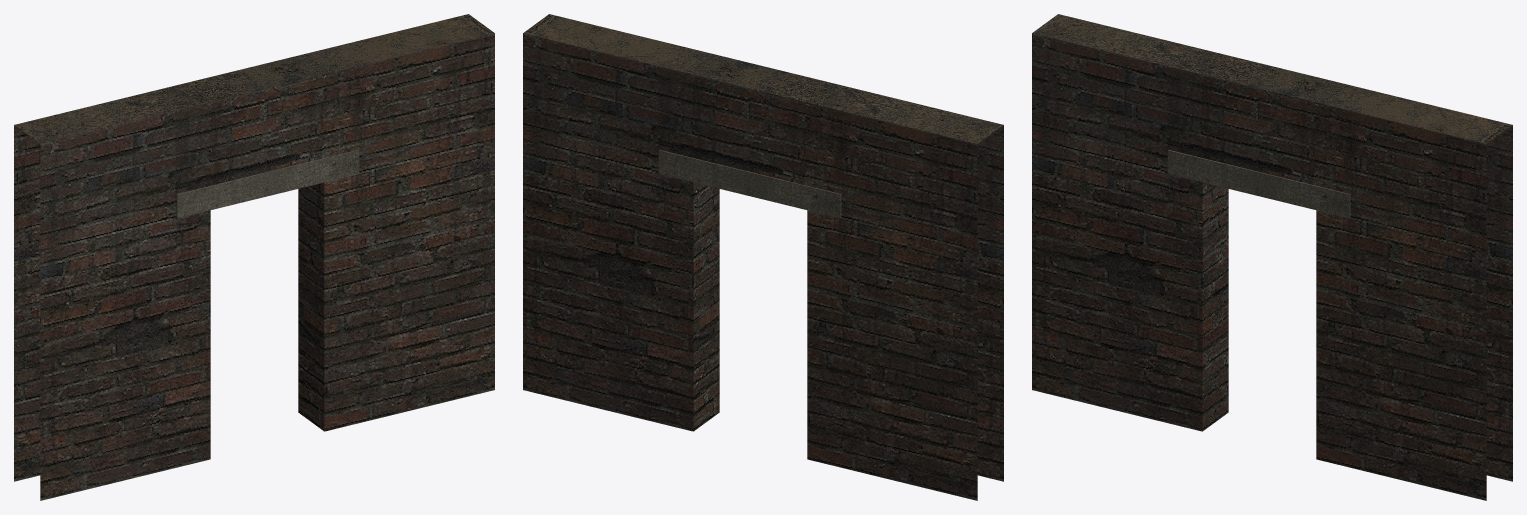
File: doorway_hs_1_regular.glb
The picture shows the model from 3 angles, left to right: view 1: azimuth 30°, elevation 25°; view 2: azimuth 150°, elevation 25°; view 3: azimuth 330°, elevation 25°; orthographic projection.
Visible parts, largest first — view 1: doorway_hs_1_regular; view 2: doorway_hs_1_regular; view 3: doorway_hs_1_regular.
Boxes of the visible parts, left/top/right/bottom form: doorway_hs_1_regular: left=14, top=14, right=494, bottom=500; doorway_hs_1_regular: left=523, top=14, right=1003, bottom=500; doorway_hs_1_regular: left=1032, top=14, right=1512, bottom=500.
Bounding box in the file's own units: 4 × 3 × 0.42.
Materials: 3 (3 with a texture image).
